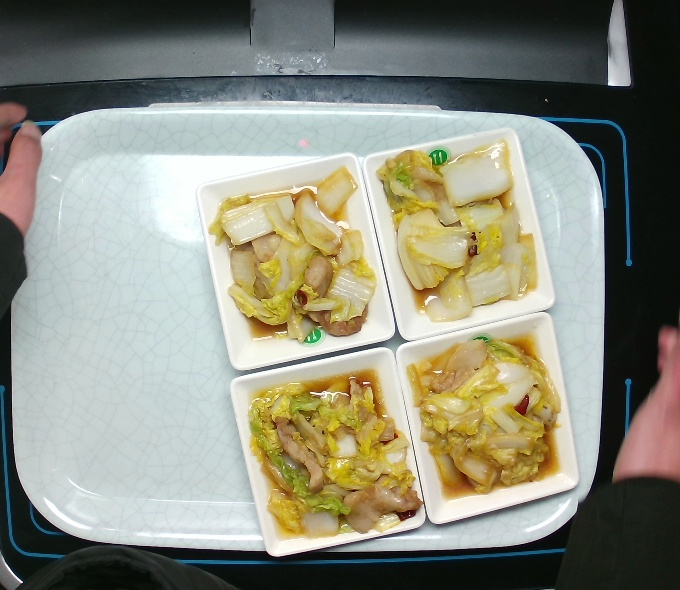wcq-DaBaiCaiRouPian: (242, 363, 428, 541), (376, 137, 548, 317), (208, 166, 380, 346), (401, 328, 573, 508)
